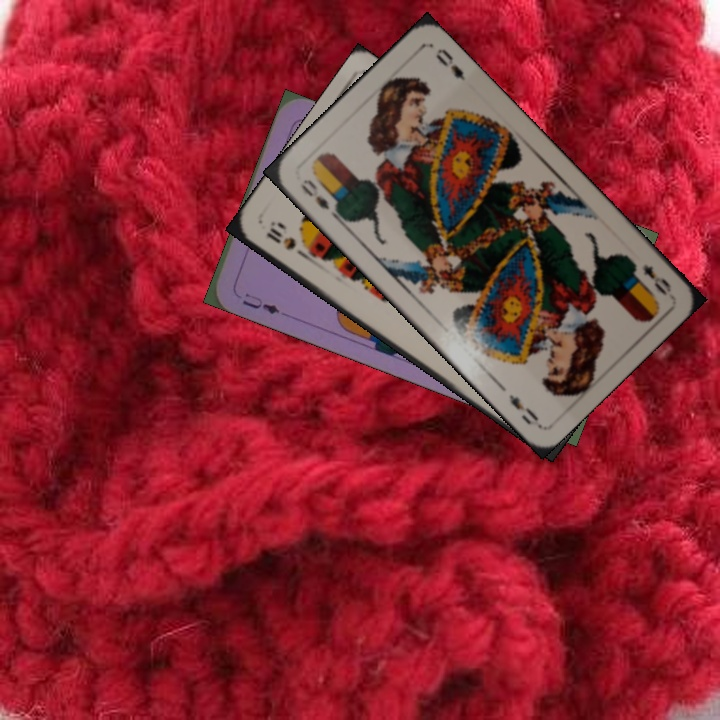EO: (296, 175, 341, 220), (638, 260, 674, 299)
EU: (238, 289, 282, 317)
S10: (262, 219, 310, 261)
